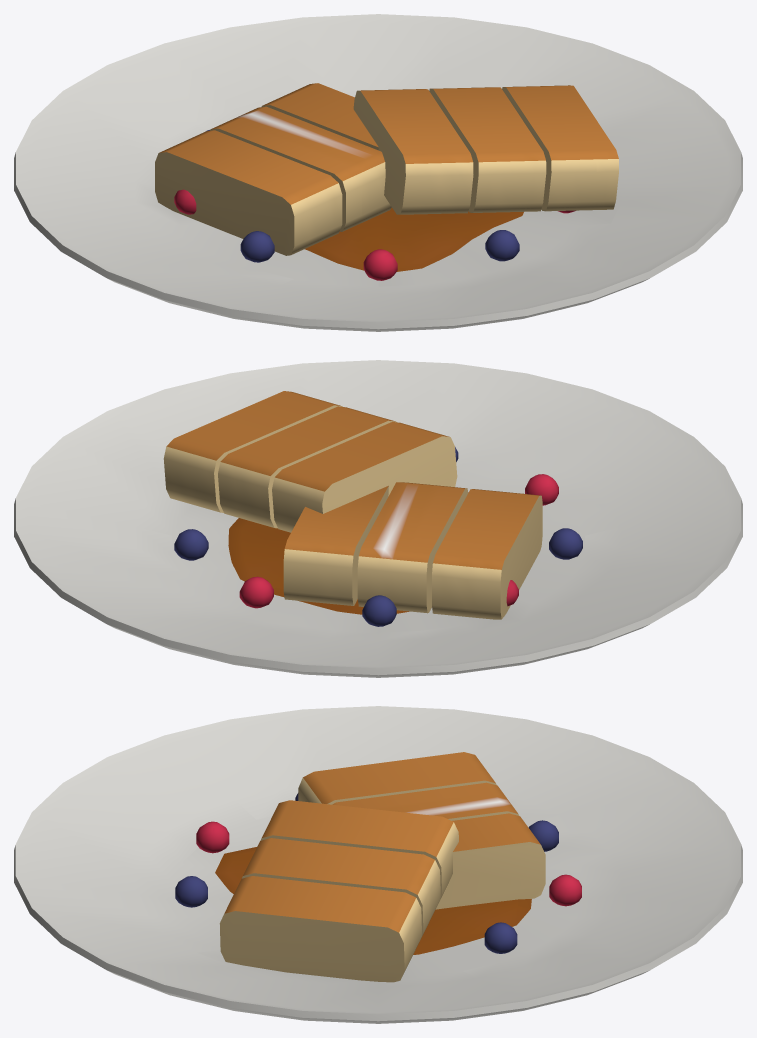
Rendered from dish-french-toast-lod1.glb.
3 renders of one model, top to bottom at view 1: azimuth 30°, elevation 25°; view 2: azimuth 150°, elevation 25°; view 3: azimuth 270°, elevation 25°, orthographic.
Visible parts, largest first — view 1: french-toast.lod1__table porcelain, french-toast.lod1__food, french-toast.lod1__food glaze; view 2: french-toast.lod1__table porcelain, french-toast.lod1__food, french-toast.lod1__food glaze; view 3: french-toast.lod1__table porcelain, french-toast.lod1__food, french-toast.lod1__food glaze.
Boxes of the visible parts, left/top/right/bottom form: french-toast.lod1__table porcelain: left=14, top=14, right=742, bottom=331; french-toast.lod1__food: left=155, top=83, right=618, bottom=255; french-toast.lod1__food glaze: left=174, top=130, right=575, bottom=280; french-toast.lod1__table porcelain: left=14, top=360, right=742, bottom=677; french-toast.lod1__food: left=163, top=391, right=542, bottom=619; french-toast.lod1__food glaze: left=174, top=447, right=582, bottom=626; french-toast.lod1__table porcelain: left=14, top=706, right=742, bottom=1023; french-toast.lod1__food: left=219, top=752, right=545, bottom=982; french-toast.lod1__food glaze: left=175, top=793, right=581, bottom=954.
Size of the model in its own units: 0.27 by 0.044 by 0.2685.
